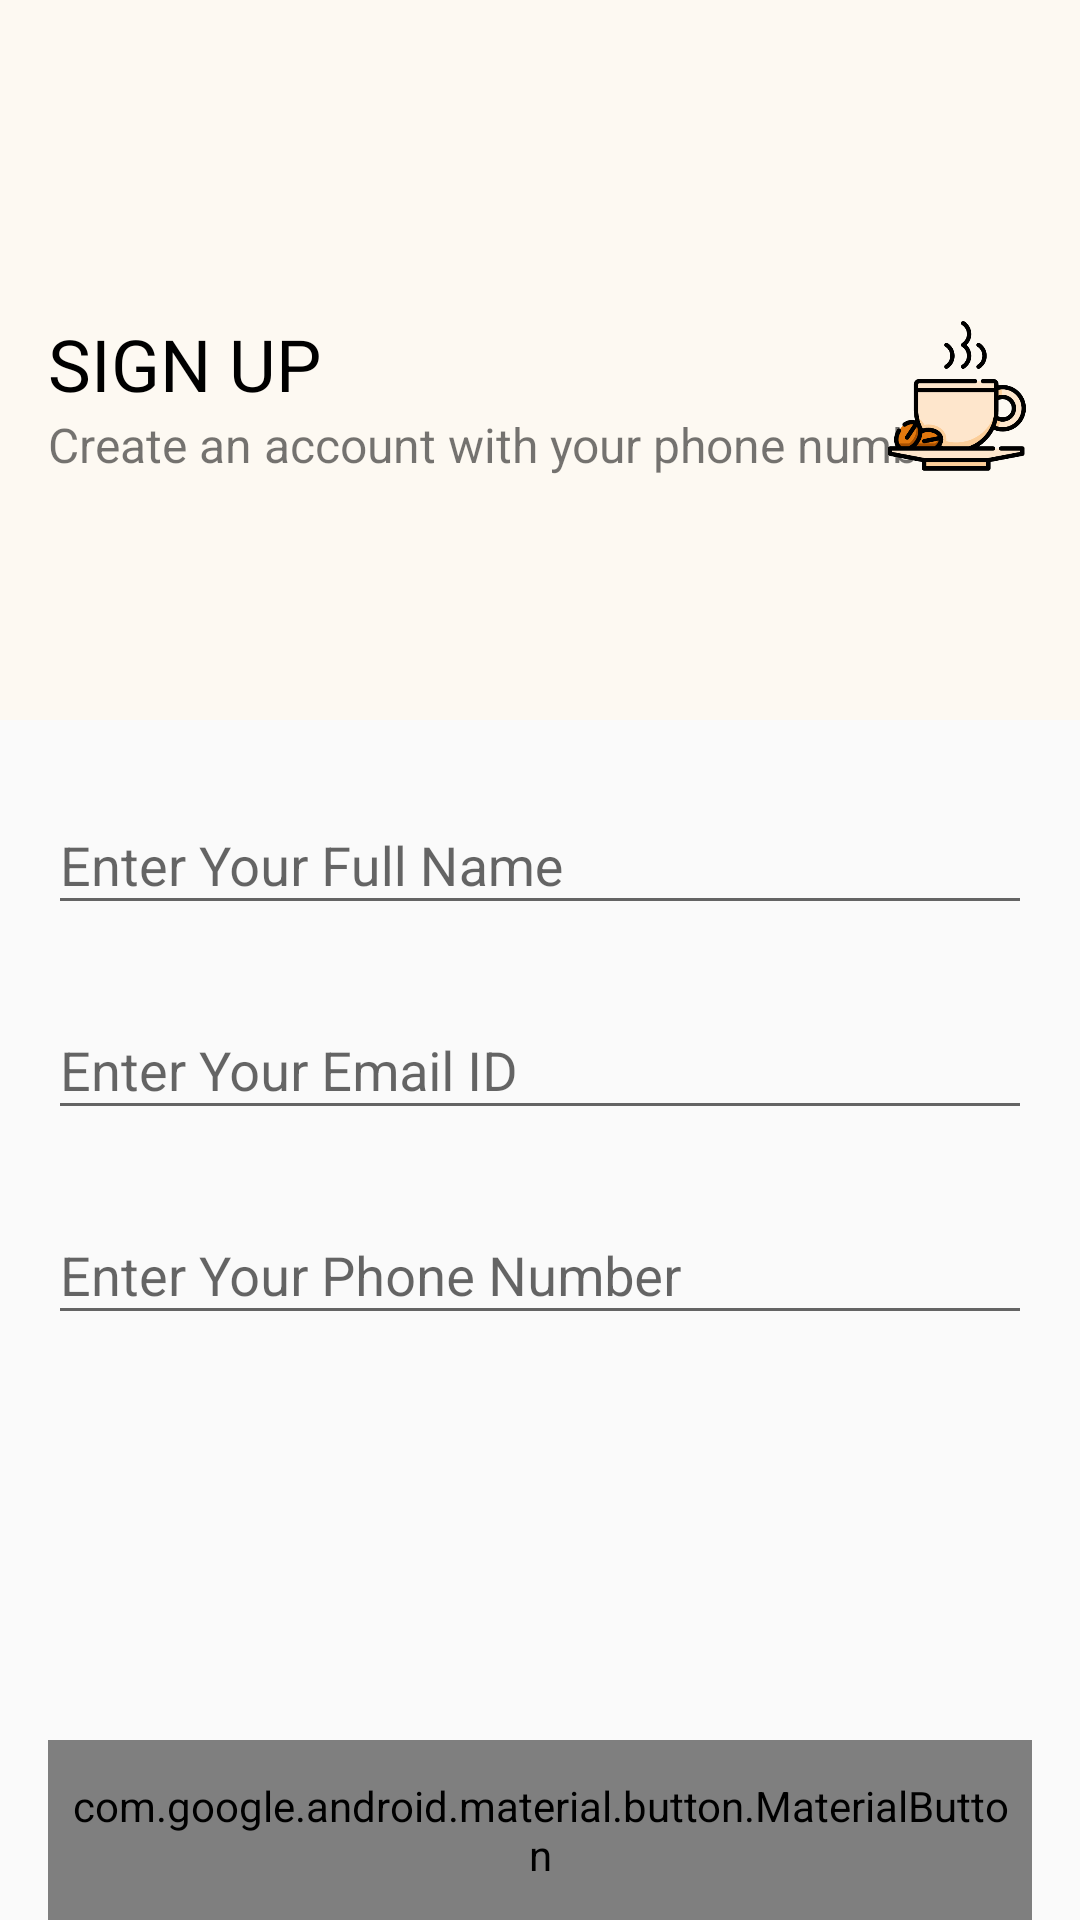

Icon click points for this 1080 x 1920 phone screenshot, format point (x, y):
coffee cup: point (954, 396)
